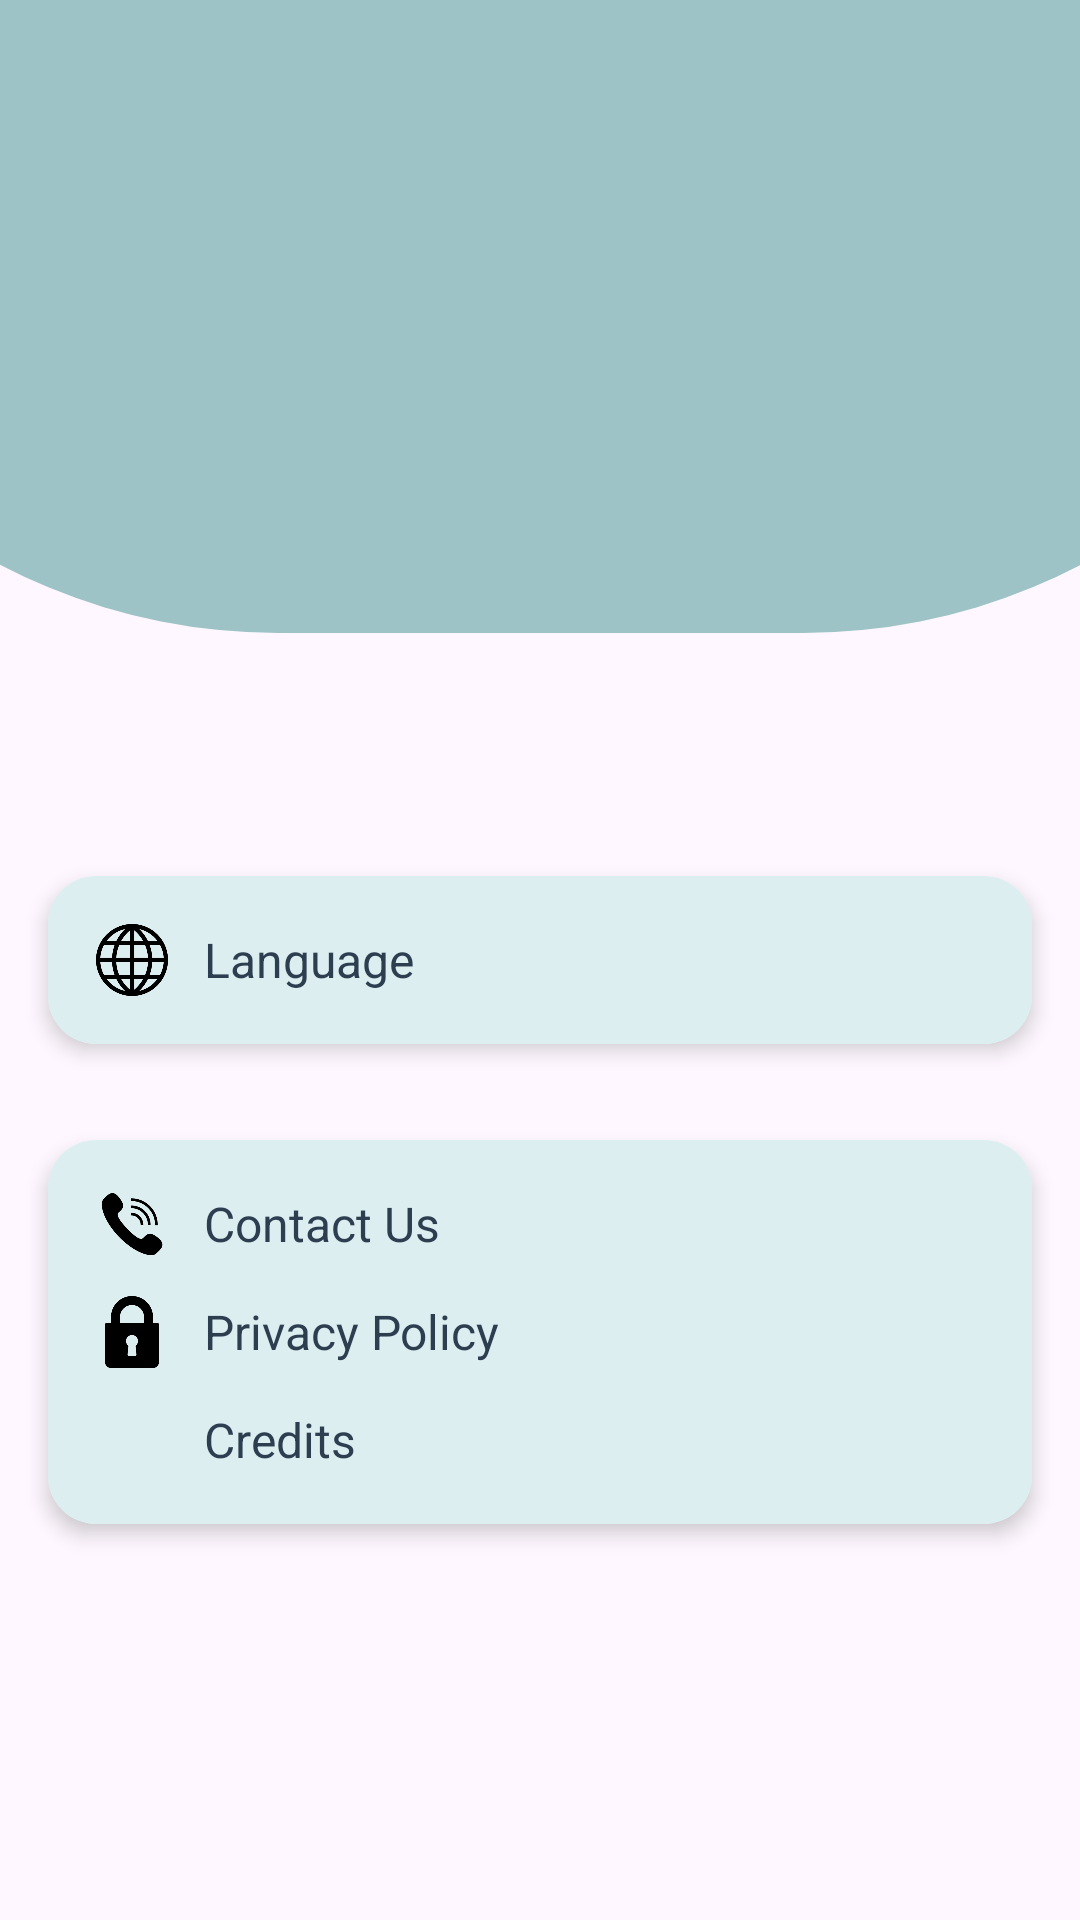

Icons on this 1080 x 1920 Android screen, each with the point to tap as (x,y):
bloquear: (132,1332)
global: (132,960)
phone: (132,1224)
